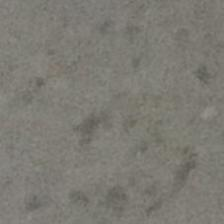Non_Crack: (37, 30, 212, 186)
